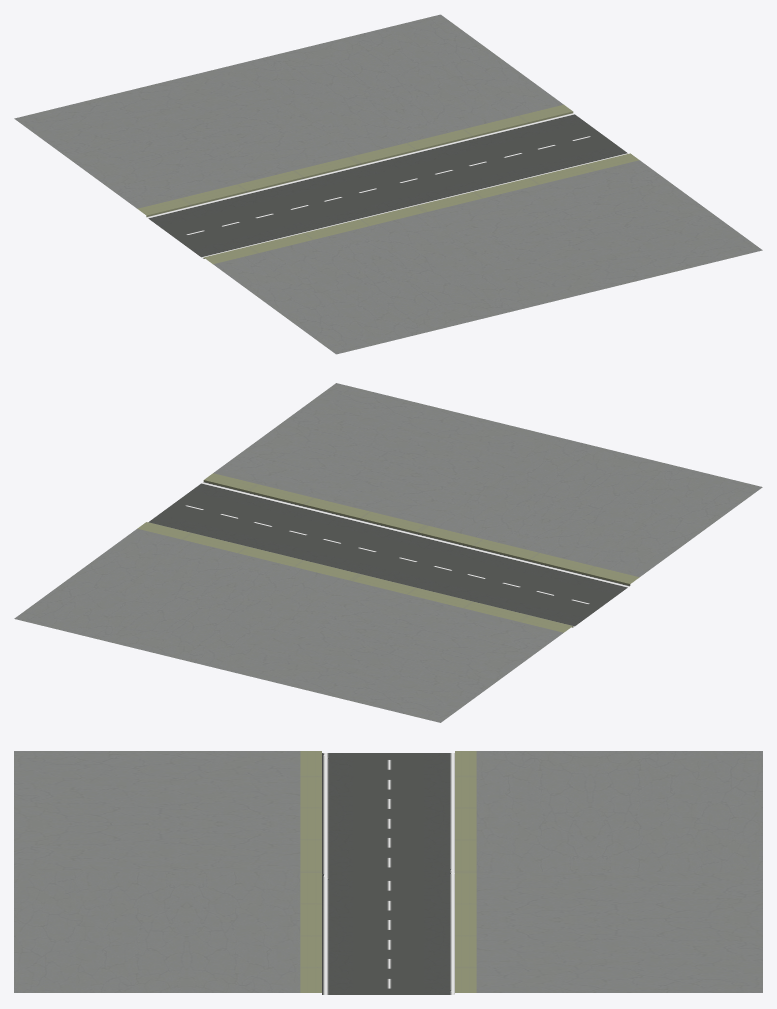
File: Road_Mid.fbx
3 views of the same model, one above another, from view 1: azimuth 30°, elevation 25°; view 2: azimuth 150°, elevation 25°; view 3: azimuth 270°, elevation 25° (orthographic). The views are drawn at different scales.
Parts seen in each view (by area): view 1: Road_Mid; view 2: Road_Mid; view 3: Road_Mid.
Part boxes in pixels (bbox=[...]): Road_Mid: bbox=[14, 14, 762, 354]; Road_Mid: bbox=[14, 383, 762, 722]; Road_Mid: bbox=[14, 751, 762, 994].
Bounding box in the file's own units: 31.04 × 0.1137 × 40.6.
Materials: 1 (1 with a texture image).
